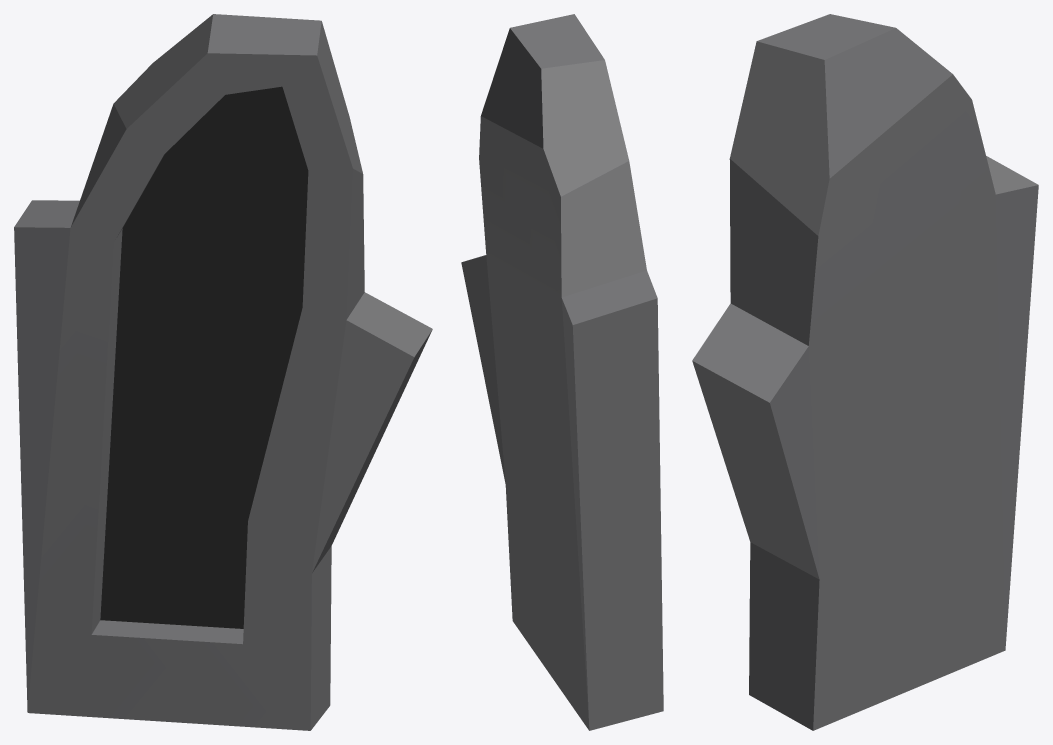
File: ea_grave_stone_mini_01b_pre__1__1_lev1.glb
The picture shows the model from 3 angles, left to right: view 1: azimuth 30°, elevation 25°; view 2: azimuth 150°, elevation 25°; view 3: azimuth 270°, elevation 25°; orthographic projection. The views are drawn at different scales.
Parts seen in each view (by area): view 1: ea_grave_stone_mini_01b_pre__1__1_lev1; view 2: ea_grave_stone_mini_01b_pre__1__1_lev1; view 3: ea_grave_stone_mini_01b_pre__1__1_lev1.
Part boxes in pixels (box(x1,y1,x2,y2)): ea_grave_stone_mini_01b_pre__1__1_lev1: box(14, 14, 432, 730); ea_grave_stone_mini_01b_pre__1__1_lev1: box(461, 14, 663, 730); ea_grave_stone_mini_01b_pre__1__1_lev1: box(692, 14, 1038, 730).
Size of the model in its own units: 0.5297 by 1.09 by 0.5034.
Materials: 1 (1 with a texture image).
